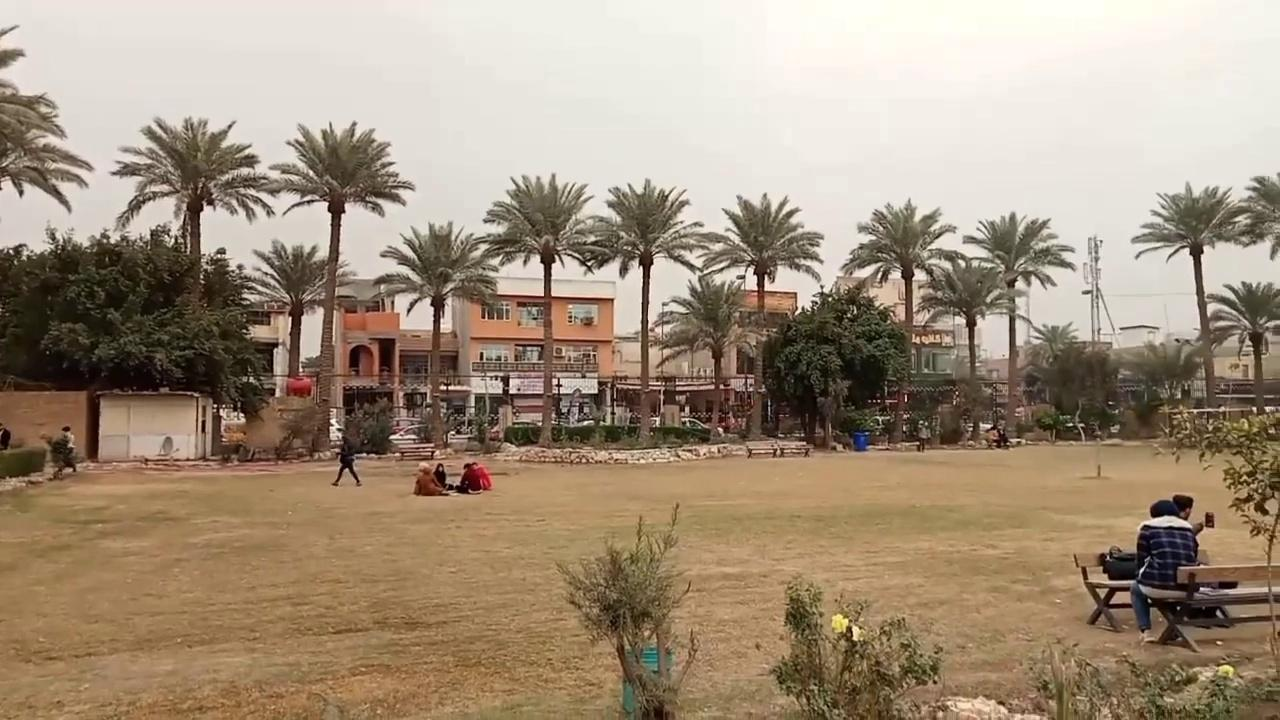fountain: (2, 428, 1277, 718), (221, 395, 330, 461), (619, 636, 676, 716), (239, 401, 293, 456), (0, 440, 48, 479), (156, 434, 176, 456)
person: (1130, 498, 1203, 644), (330, 429, 361, 486), (49, 425, 77, 479), (412, 461, 449, 495), (455, 462, 484, 494), (467, 461, 491, 490), (432, 462, 448, 489), (916, 419, 929, 451), (0, 422, 11, 450)
tree: (4, 222, 269, 460), (262, 118, 415, 449), (476, 171, 607, 447), (1151, 403, 1279, 672), (582, 177, 706, 438), (109, 113, 274, 306), (553, 500, 698, 718), (697, 191, 824, 437), (839, 196, 957, 441), (373, 219, 498, 448), (1130, 180, 1244, 414), (961, 210, 1076, 433), (769, 571, 943, 718), (765, 282, 909, 448), (915, 250, 1016, 444), (0, 22, 94, 215), (652, 273, 757, 432), (237, 238, 350, 385), (697, 191, 824, 313), (0, 219, 89, 386), (1230, 170, 1279, 411), (1204, 279, 1279, 415), (1028, 340, 1119, 441), (1114, 336, 1206, 410), (1026, 320, 1078, 410), (1230, 171, 1279, 261), (343, 395, 395, 455), (1028, 320, 1077, 364)
